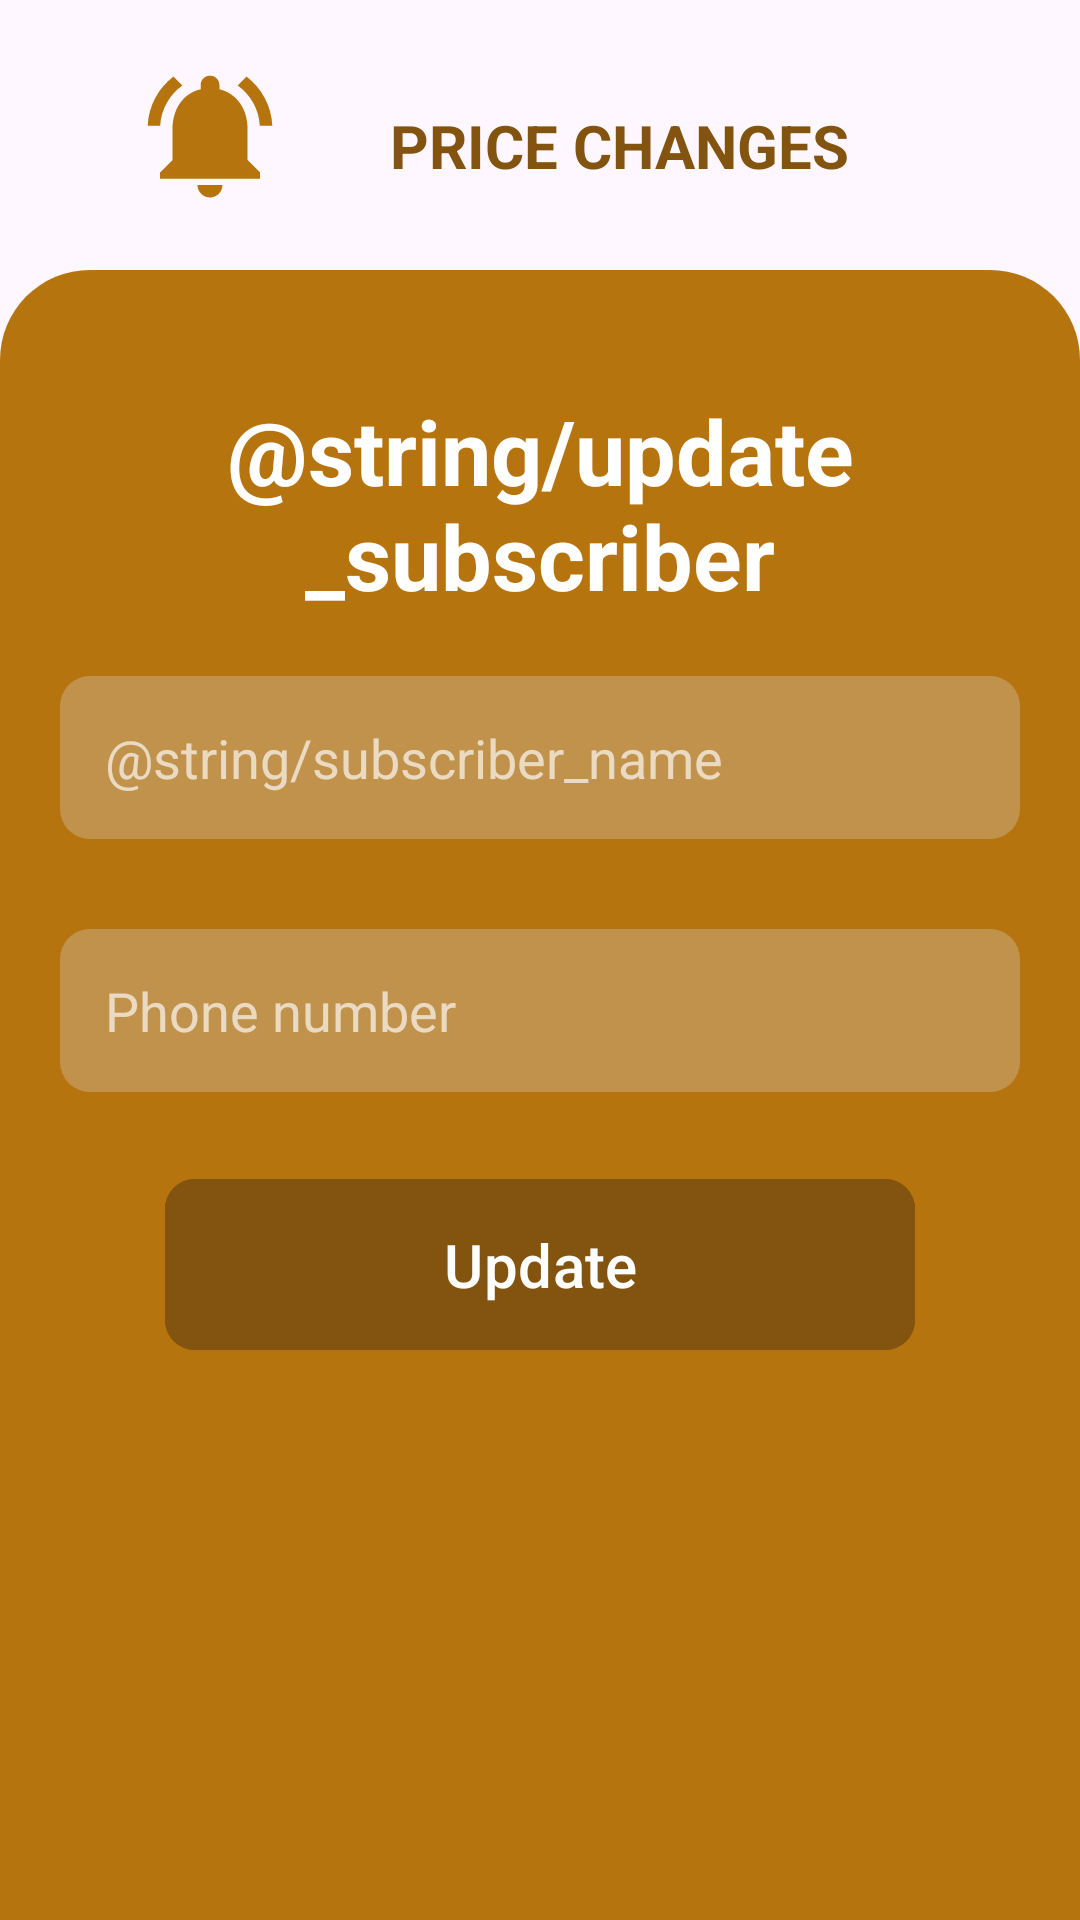

Screen size 1080px×1920px. Icon name, then its box in pixels as (x1, y1, x2, y2):
notifications: (147, 75, 273, 198)
